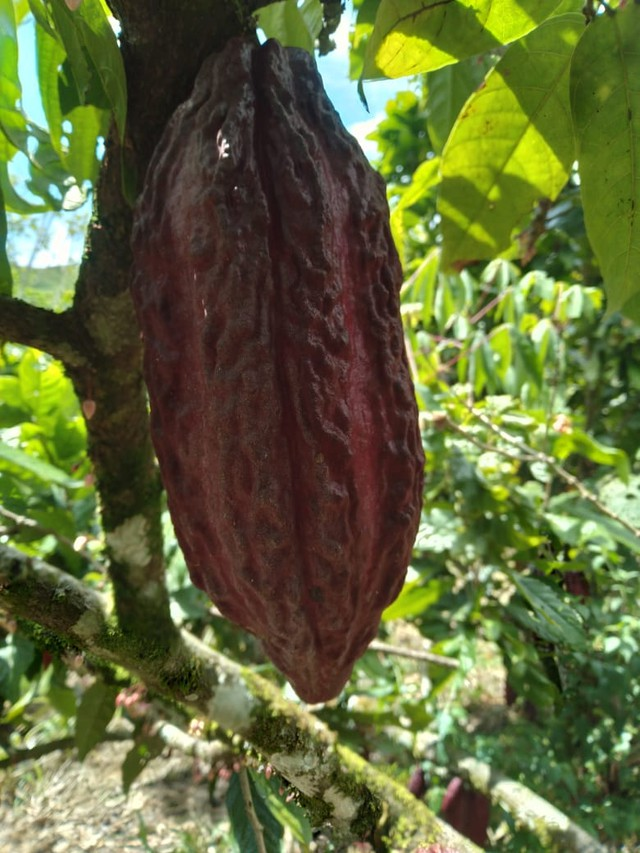Health: (109, 17, 441, 720)
